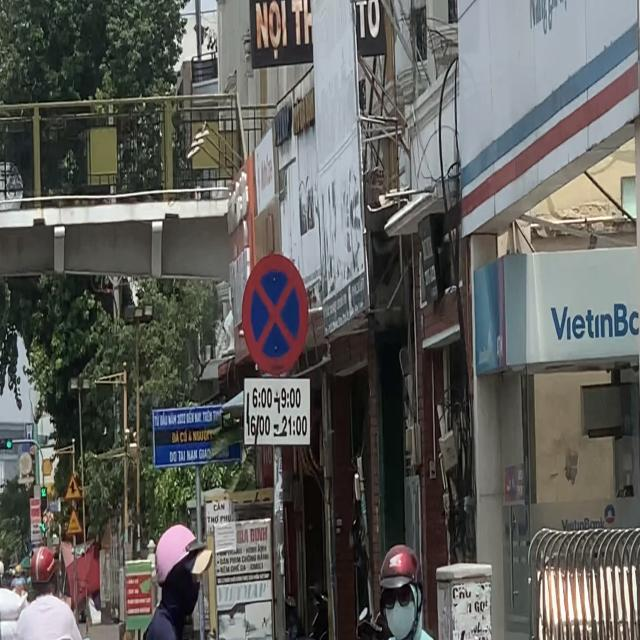Cam dung va do: (241, 250, 310, 376)
